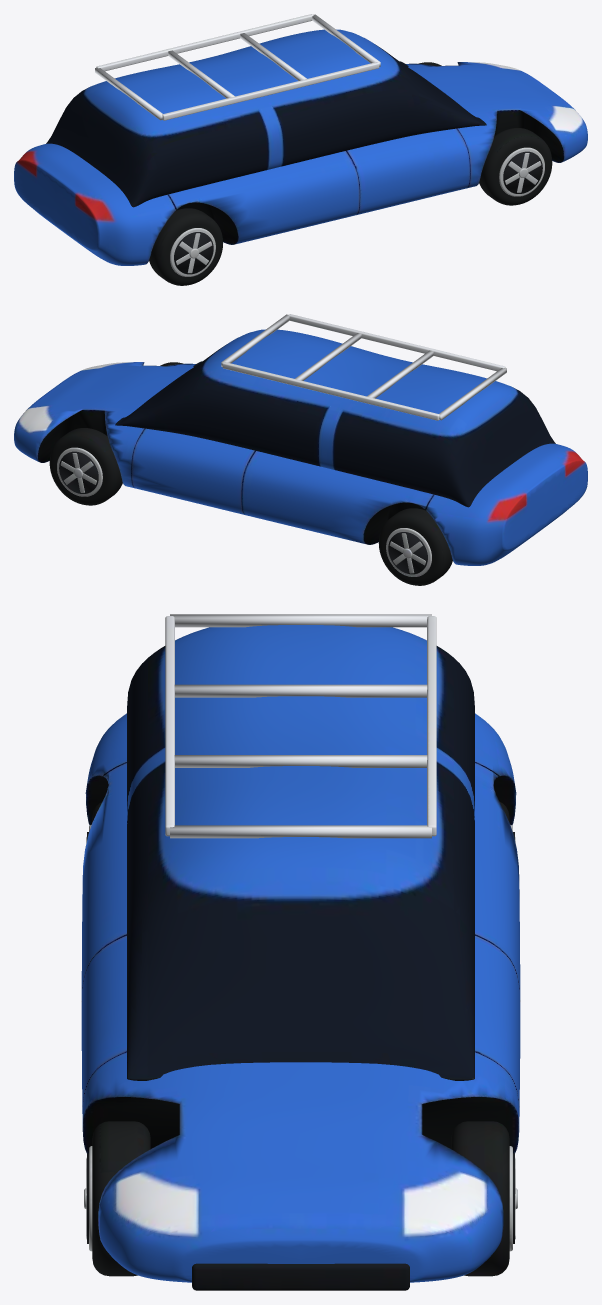
Rendered from car-1.glb.
The picture shows the model from 3 angles, top to bottom: view 1: azimuth 30°, elevation 25°; view 2: azimuth 150°, elevation 25°; view 3: azimuth 270°, elevation 25°; orthographic projection. The views are drawn at different scales.
Parts seen in each view (by area): view 1: Body_2, Body, Body_4, Body_5, Body_6, Body_1, Body_7; view 2: Body_2, Body, Body_4, Body_5, Body_6, Body_1, Body_7; view 3: Body_2, Body, Body_4, Body_5, Body_1, Body_3, Body_6.
Boxes of the visible parts, box(x1,y1,x2,y2) form: Body_2: box(46, 29, 486, 207); Body: box(14, 62, 587, 265); Body_4: box(95, 14, 380, 120); Body_5: box(149, 62, 552, 285); Body_6: box(170, 147, 544, 276); Body_1: box(176, 62, 563, 244); Body_7: box(174, 151, 542, 274); Body_2: box(115, 329, 555, 507); Body: box(14, 362, 587, 565); Body_4: box(221, 314, 506, 420); Body_5: box(49, 362, 452, 585); Body_6: box(57, 447, 431, 576); Body_1: box(38, 362, 425, 544); Body_7: box(59, 451, 427, 574); Body_2: box(127, 625, 474, 1080); Body: box(81, 713, 520, 1282); Body_4: box(165, 614, 436, 838); Body_5: box(92, 802, 509, 1276); Body_1: box(82, 775, 519, 1153); Body_3: box(192, 1263, 409, 1290); Body_6: box(84, 825, 517, 1251).
Size of the model in its own units: 4.77 by 1.46 by 1.81.
Materials: 8 (8 with a texture image).
